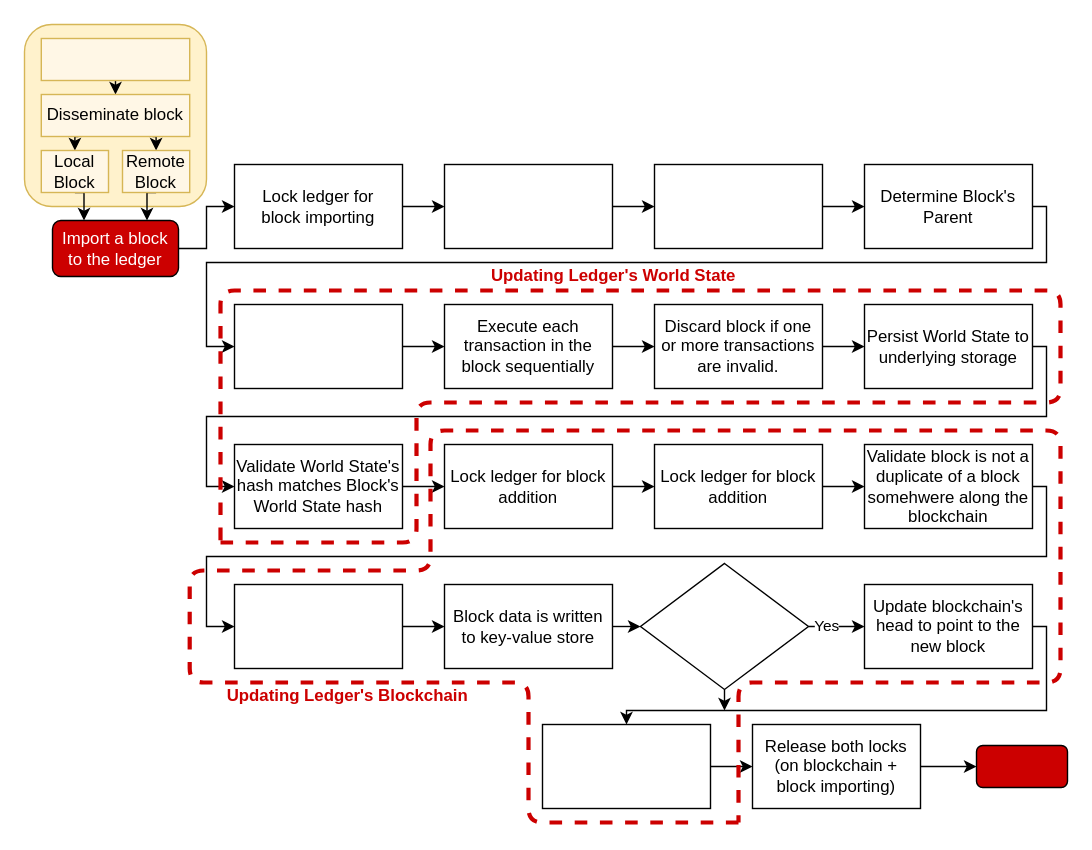
Image size: 1092x850. Some labels were removed from this diagram. Here are the shapes that lost their labels. From the top down, the box of each, then its label:
(40, 37, 190, 80): Reach consensus on block
(443, 163, 612, 248): Extract block's consensus header
(653, 163, 822, 248): Perform consensus-specific validation
(233, 303, 402, 388): Update World State to match parent's block
(233, 583, 402, 668): Validate block points to a known parent
(639, 562, 808, 690): Is new head of blockchain?
(541, 723, 710, 808): Atomically update ledger's changes
(975, 744, 1068, 788): End
